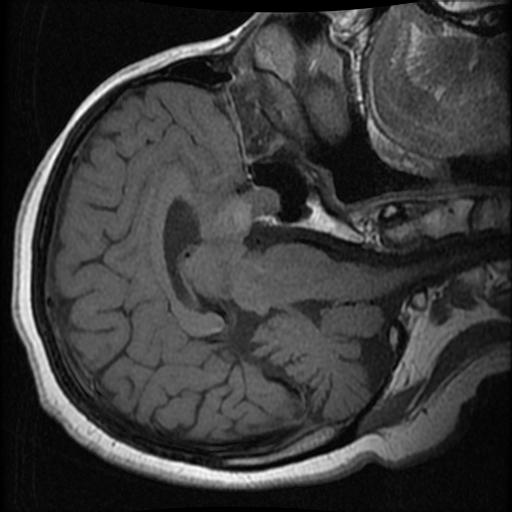pituitary tumour: (208, 189, 276, 243)
